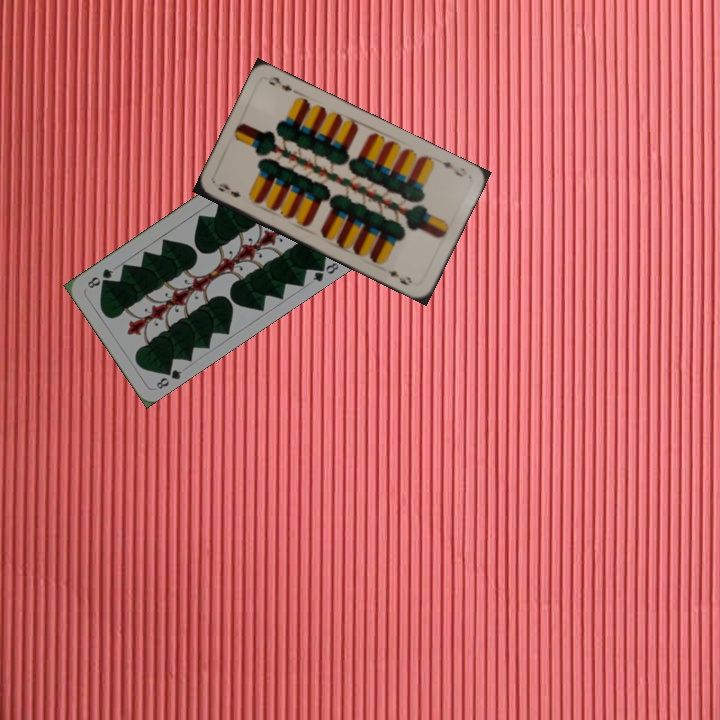E9: (439, 158, 470, 180), (213, 179, 243, 200)
G8: (152, 362, 185, 392)
